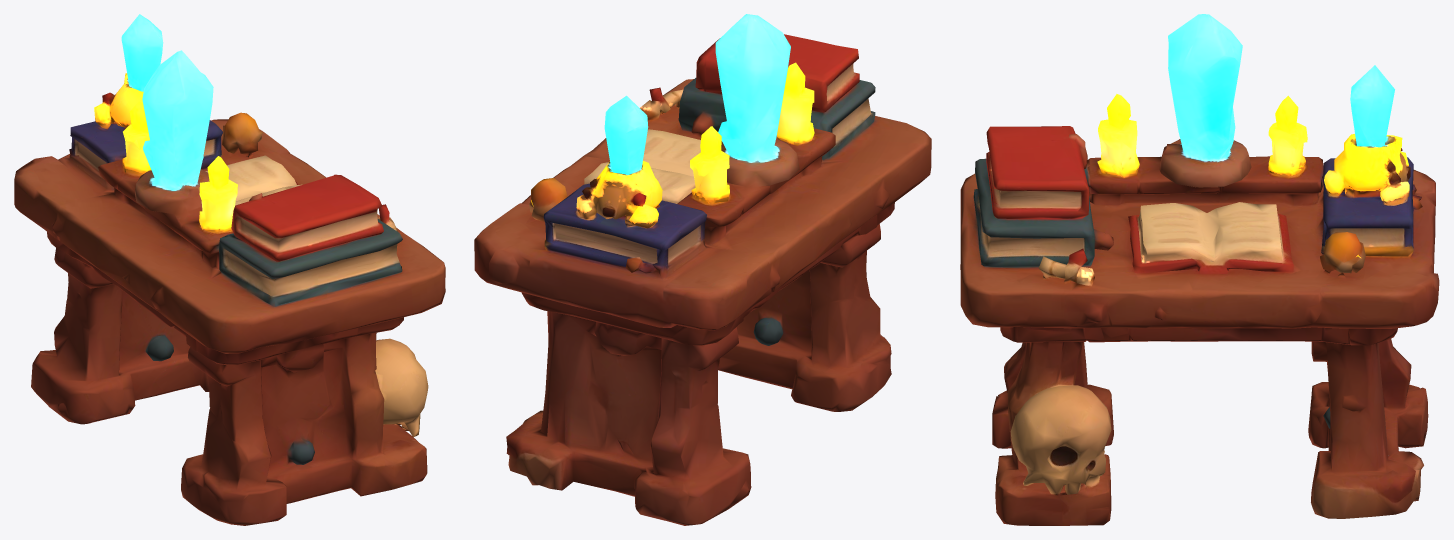
Rendered from sage_desk-BEBOMb49.glb.
3 views of the same model, side by side, from view 1: azimuth 30°, elevation 25°; view 2: azimuth 150°, elevation 25°; view 3: azimuth 270°, elevation 25° (orthographic). The views are drawn at different scales.
Visible parts, largest first — view 1: tripo_node_50138034-c354-4b31-b6a4-4f2e7ea49358; view 2: tripo_node_50138034-c354-4b31-b6a4-4f2e7ea49358; view 3: tripo_node_50138034-c354-4b31-b6a4-4f2e7ea49358.
Part boxes in pixels (<box>): tripo_node_50138034-c354-4b31-b6a4-4f2e7ea49358: <box>14,14,445,525</box>; tripo_node_50138034-c354-4b31-b6a4-4f2e7ea49358: <box>474,14,931,525</box>; tripo_node_50138034-c354-4b31-b6a4-4f2e7ea49358: <box>960,14,1439,525</box>.
Size of the model in its own units: 0.6591 by 0.9949 by 1.
Materials: 1 (1 with a texture image).
